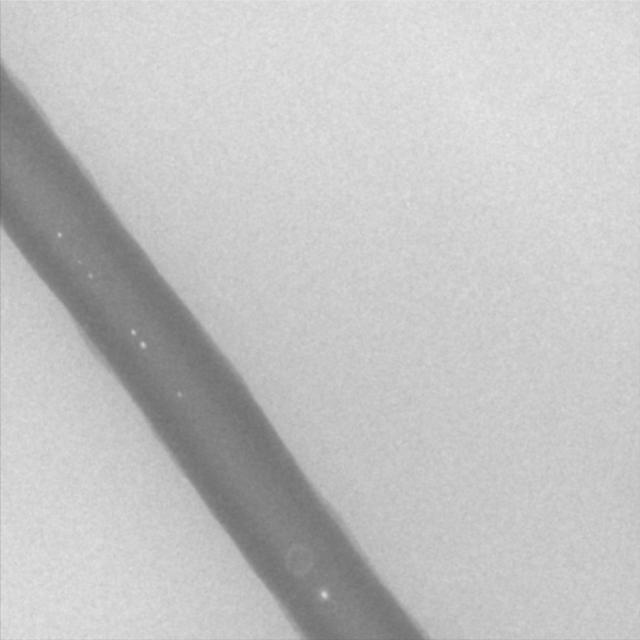air hole: (318, 587, 329, 601), (139, 340, 147, 350), (176, 389, 184, 399), (56, 230, 63, 240), (87, 271, 94, 281), (129, 327, 136, 336)
hollow bead: (283, 542, 317, 578)
